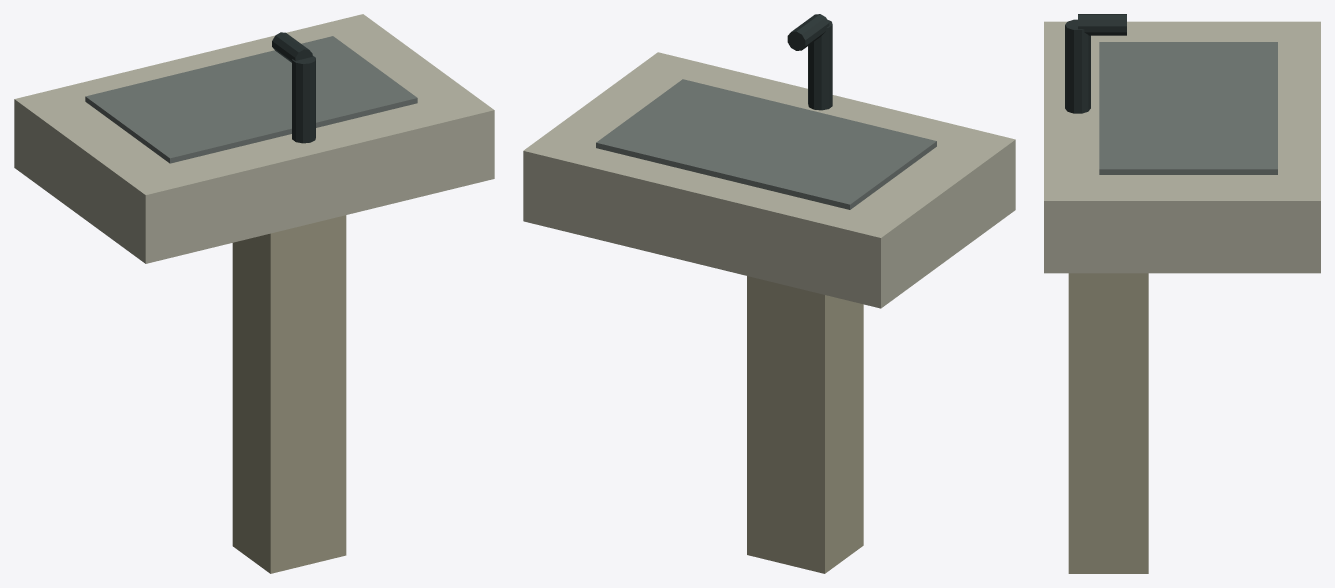
The model's file is washbasin.glb.
The picture shows the model from 3 angles, left to right: view 1: azimuth 30°, elevation 25°; view 2: azimuth 150°, elevation 25°; view 3: azimuth 270°, elevation 25°; orthographic projection. The views are drawn at different scales.
Parts seen in each view (by area): view 1: washbasin; view 2: washbasin; view 3: washbasin.
Boxes of the visible parts, box(x1,y1,x2,y2) form: washbasin: box(14, 14, 494, 573); washbasin: box(523, 14, 1015, 573); washbasin: box(1044, 14, 1320, 573).
Size of the model in its own units: 0.69 by 0.968 by 0.45.
